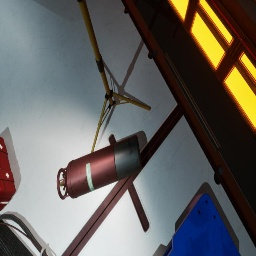FirstAidBox ,: (0, 137, 16, 211)
NitrogenTank ,: (57, 135, 142, 200)
